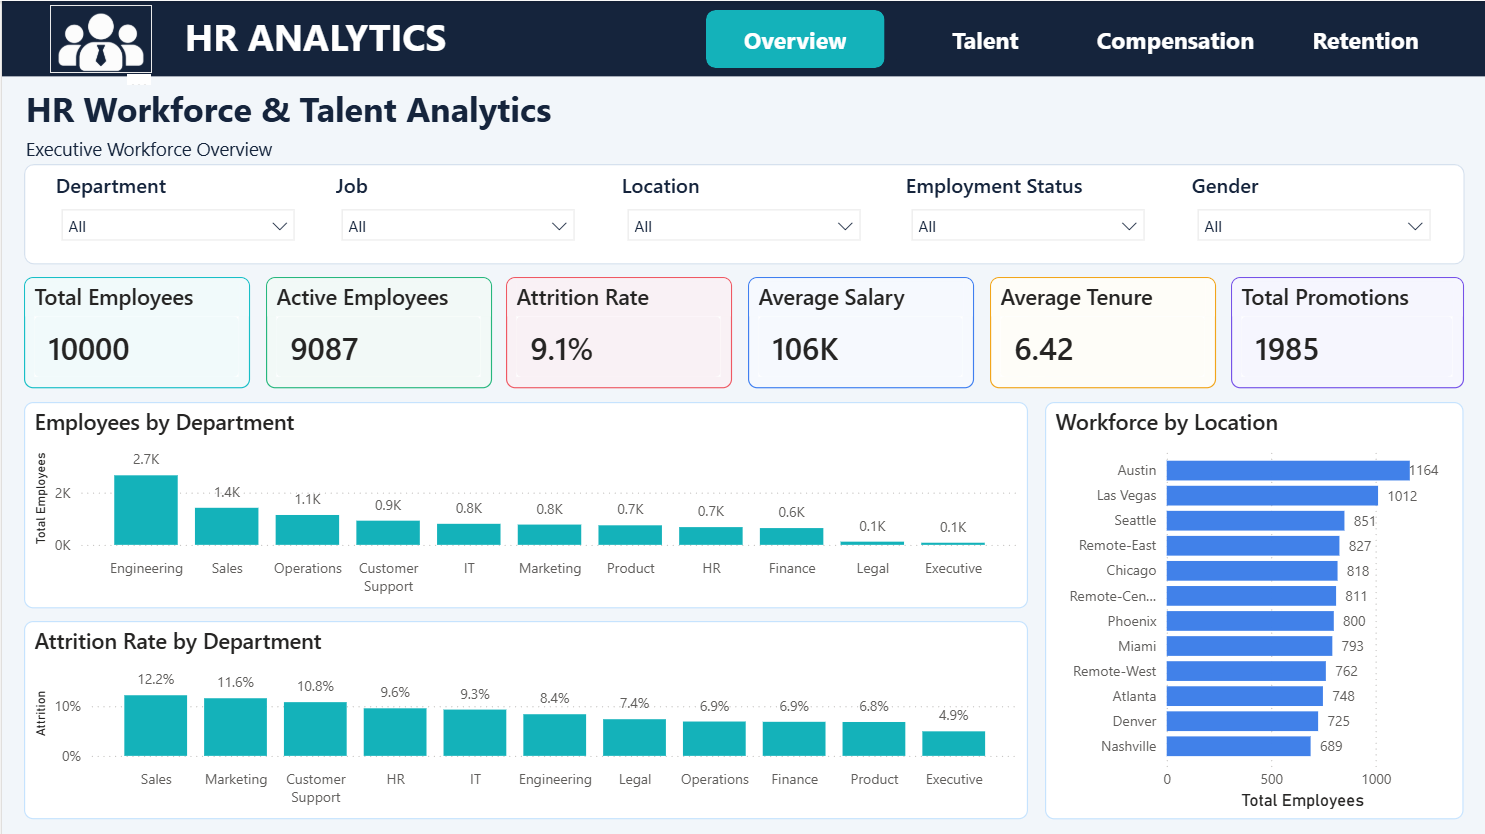

What the dashboard file says about the page in this screenshot:
{"tool":"powerbi","page":{"name":"Overview","canvas":[1280,720],"ordinal":0},"visuals":[{"type":"shape","box":[0,0,1280,65],"z":0},{"type":"textbox","title":"HR ANALYTICS","box":[152.5,7.7,263.2,49.4],"z":1000},{"type":"image","box":[41.7,3.3,87.7,59.2],"z":2000},{"type":"pageNavigator","box":[607.6,7.7,648.2,50.5],"z":3000},{"type":"shape","box":[18.7,140.8,1242.6,86.6],"z":4000},{"type":"textbox","title":"HR Workforce & Talent Analytics","box":[15.8,72.9,514,67.9],"z":5000},{"type":"slicer","title":"Department","fields":{"Values":["hr_analytics dim_departments.DepartmentName"]},"box":[41.4,146.7,221,74.8],"z":6000},{"type":"slicer","title":"Job","fields":{"Values":["hr_analytics dim_jobs.JobTitle"]},"box":[282.6,146.7,220.6,74.8],"z":7000},{"type":"slicer","title":"Location","fields":{"Values":["hr_analytics dim_locations.LocationName"]},"box":[529.7,146.7,220.6,74.8],"z":8000},{"type":"slicer","title":"Employment Status","fields":{"Values":["hr_analytics dim_employees.EmploymentStatus"]},"box":[774.9,146.7,220.6,74.8],"z":9000},{"type":"slicer","title":"Gender","fields":{"Values":["hr_analytics dim_employee_demographics.GenderIdentity"]},"box":[1021,146.7,220.6,74.8],"z":10000},{"type":"cardVisual","title":"Total Employees","fields":{"Data":["MeasuresTable.Total Employees"]},"box":[18.7,238.3,195,95.5],"z":11000},{"type":"cardVisual","title":"Active Employees","fields":{"Data":["MeasuresTable.Active Employees"]},"box":[227.4,238.3,195,95.5],"z":12000},{"type":"cardVisual","title":"Average Tenure","fields":{"Data":["MeasuresTable.Average Tenure"]},"box":[852.1,238.3,195,95.5],"z":13000},{"type":"cardVisual","title":"Attrition Rate","fields":{"Data":["MeasuresTable.Attrition"]},"box":[435,238.3,195,95.5],"z":14000},{"type":"cardVisual","title":"Average Salary","fields":{"Data":["MeasuresTable.Average Salary"]},"box":[643.7,238.3,195,95.5],"z":15000},{"type":"cardVisual","title":"Total Promotions","fields":{"Data":["MeasuresTable.Total Promotions"]},"box":[1060.4,238.3,200.9,95.5],"z":16000},{"type":"clusteredColumnChart","title":"Employees by Department","fields":{"Category":["hr_analytics dim_departments.DepartmentName"],"Y":["MeasuresTable.Total Employees"]},"box":[18.7,345.6,866.5,178.2],"z":17000},{"type":"clusteredColumnChart","title":"Attrition Rate by Department","fields":{"Category":["hr_analytics dim_departments.DepartmentName"],"Y":["MeasuresTable.Attrition"]},"box":[18.7,534.6,866.5,171.3],"z":18000},{"type":"clusteredBarChart","title":"Workforce by Location","fields":{"Y":["MeasuresTable.Total Employees"],"Category":["hr_analytics dim_locations.LocationName"]},"box":[899.9,345.6,361.4,360.4],"z":19000}]}

Visuals, with their boxes in screenshot pixels (x1, y1, x2, y2), scaled from the page's 1280x720 canvas onto the 1485x834 screenshot:
shape: region(0, 0, 1484, 75)
"HR ANALYTICS" textbox: region(177, 9, 482, 66)
image: region(48, 4, 150, 72)
pageNavigator: region(705, 9, 1457, 67)
shape: region(22, 163, 1463, 263)
"HR Workforce & Talent Analytics" textbox: region(18, 84, 615, 163)
"Department" slicer: region(48, 170, 304, 257)
"Job" slicer: region(328, 170, 584, 257)
"Location" slicer: region(615, 170, 870, 257)
"Employment Status" slicer: region(899, 170, 1155, 257)
"Gender" slicer: region(1185, 170, 1440, 257)
"Total Employees" cardVisual: region(22, 276, 248, 387)
"Active Employees" cardVisual: region(264, 276, 490, 387)
"Average Tenure" cardVisual: region(989, 276, 1215, 387)
"Attrition Rate" cardVisual: region(505, 276, 731, 387)
"Average Salary" cardVisual: region(747, 276, 973, 387)
"Total Promotions" cardVisual: region(1230, 276, 1463, 387)
"Employees by Department" clusteredColumnChart: region(22, 400, 1027, 607)
"Attrition Rate by Department" clusteredColumnChart: region(22, 619, 1027, 818)
"Workforce by Location" clusteredBarChart: region(1044, 400, 1463, 818)
